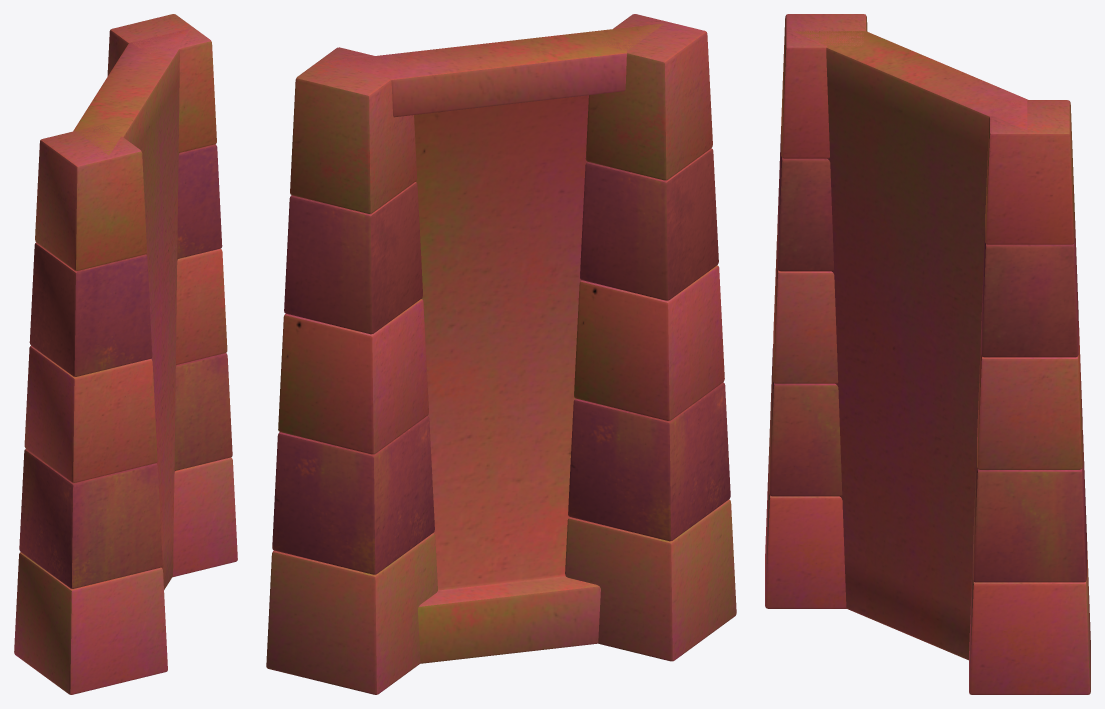
The model's file is TEMPLE_CORNER.obj.
The picture shows the model from 3 angles, left to right: view 1: azimuth 30°, elevation 25°; view 2: azimuth 150°, elevation 25°; view 3: azimuth 270°, elevation 25°; orthographic projection. The views are drawn at different scales.
Parts seen in each view (by area): view 1: TEMPLE_CORNER.002; view 2: TEMPLE_CORNER.002; view 3: TEMPLE_CORNER.002.
Part boxes in pixels (bbox=[...]): TEMPLE_CORNER.002: bbox=[14, 14, 237, 694]; TEMPLE_CORNER.002: bbox=[266, 14, 736, 694]; TEMPLE_CORNER.002: bbox=[765, 14, 1090, 694].
Bounding box in the file's own units: 1.6 × 3 × 1.6.
